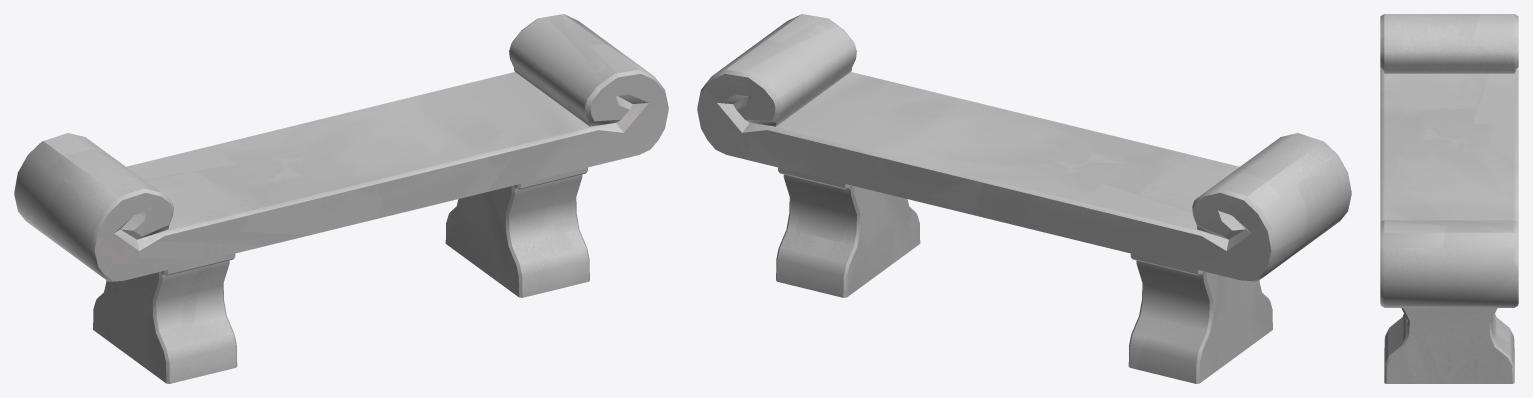
The model's file is stonebench.fbx.
3 renders of one model, left to right at view 1: azimuth 30°, elevation 25°; view 2: azimuth 150°, elevation 25°; view 3: azimuth 270°, elevation 25°, orthographic. The views are drawn at different scales.
Visible parts, largest first — view 1: Box039; view 2: Box039; view 3: Box039.
Part boxes in pixels (box(x1,y1,x2,y2)): Box039: box(14, 14, 668, 383); Box039: box(697, 14, 1351, 383); Box039: box(1380, 14, 1518, 383).
Bounding box in the file's own units: 96.88 × 32.26 × 23.31.
